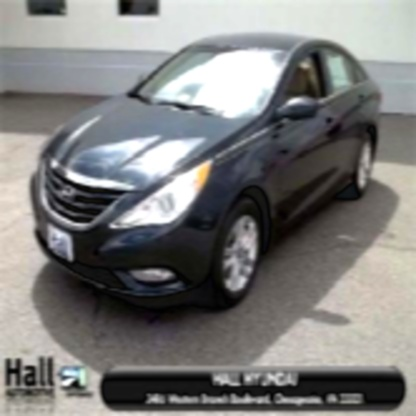Vehicle: (31, 37, 386, 309)
